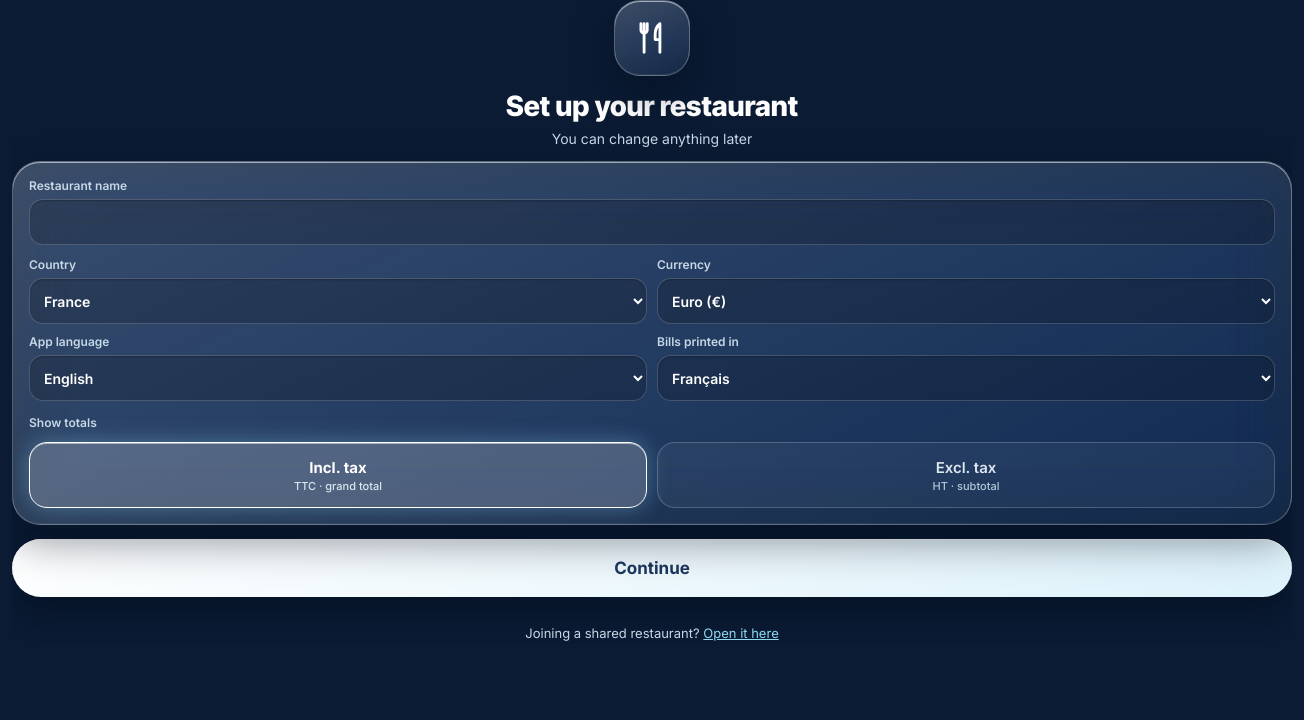
Test: choosing France preselects EUR and French bills; Continue saves and routes home
Later steps or results of the test are not shown.
Type "Chez Adi" into the field labelled "Restaurant name" at (652, 222), box [29,199,1275,245]
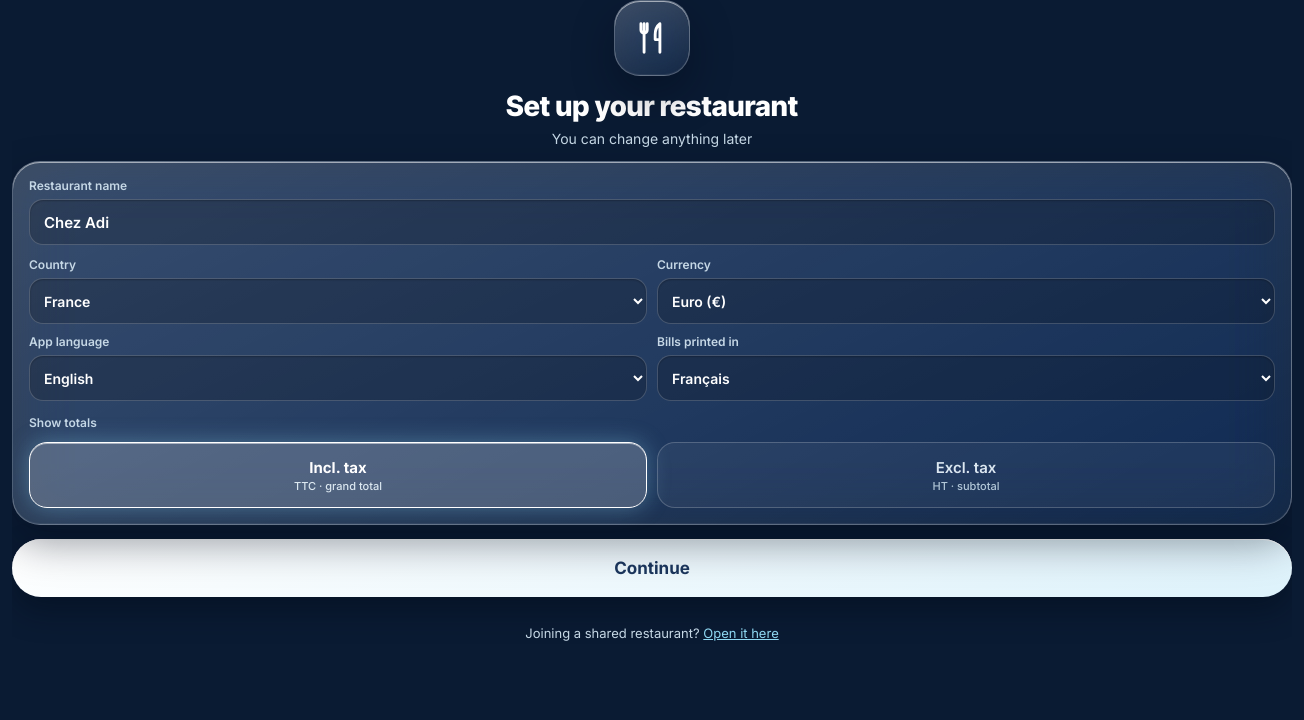
Select "United States" in the dropdown labelled "Country" at (338, 301), box [29,278,647,324]
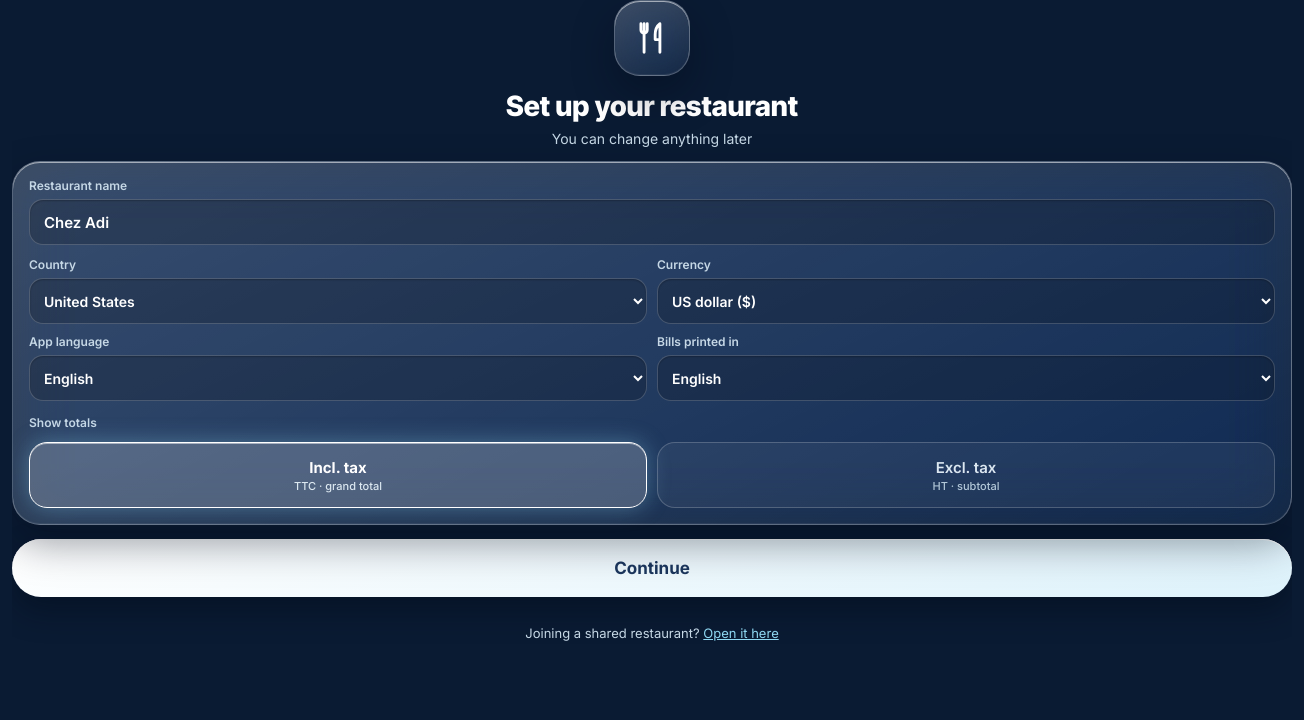
Expected: the dropdown labelled "Currency" shows "US dollar ($)", [657,278,1275,324]
Expected: the dropdown labelled "Bills printed in" shows "English", [657,355,1275,401]
Select "France" in the dropdown labelled "Country" at (338, 301), box [29,278,647,324]
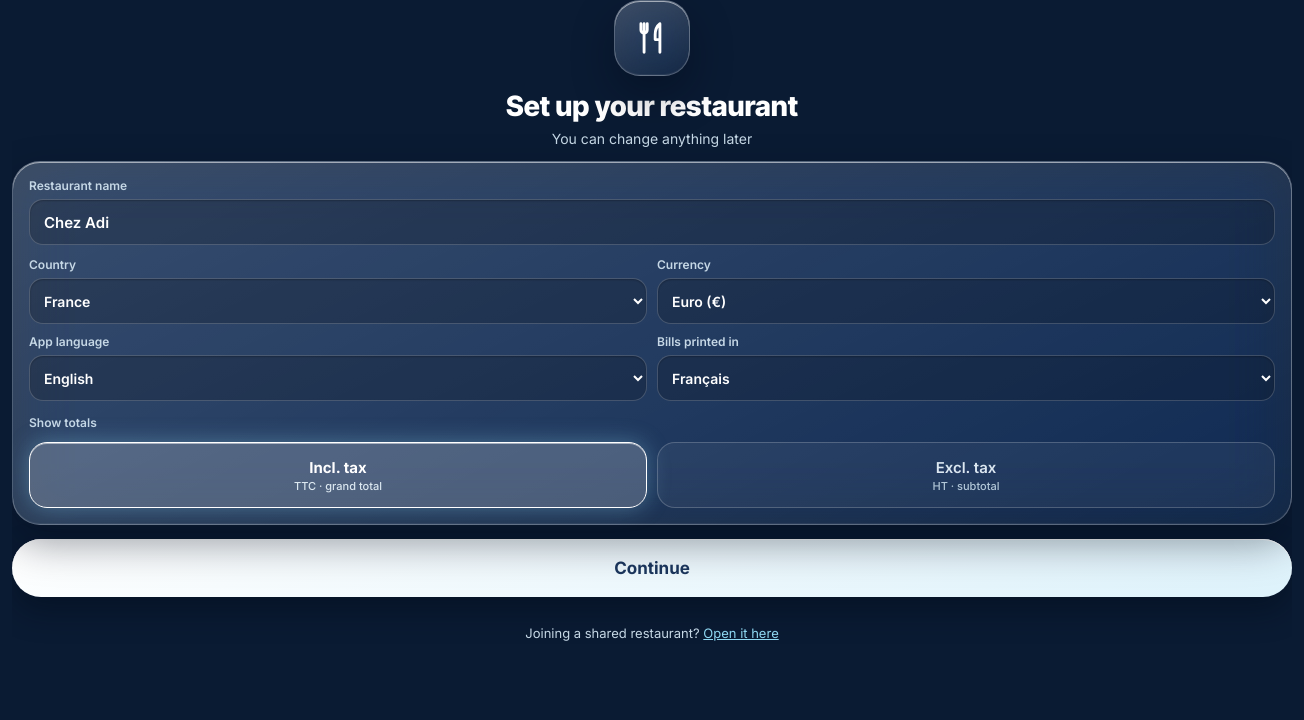
Expected: the dropdown labelled "Currency" shows "Euro (€)", [657,278,1275,324]
Expected: the dropdown labelled "Bills printed in" shows "Français", [657,355,1275,401]
